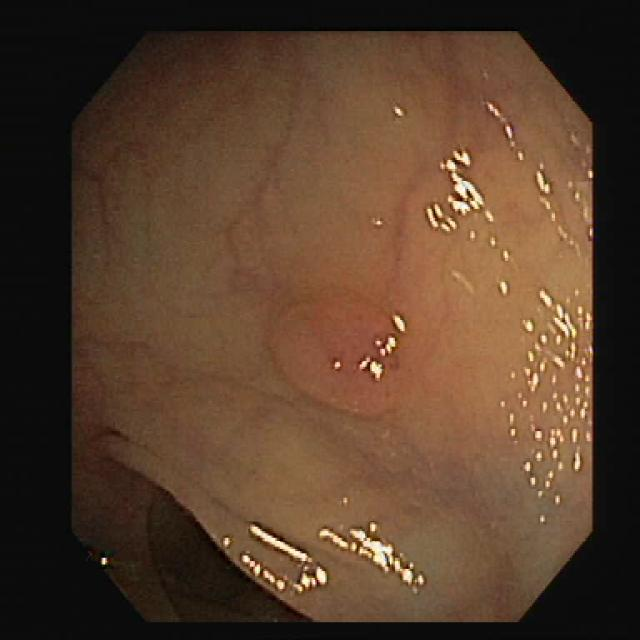tumor: (268, 287, 398, 416)
